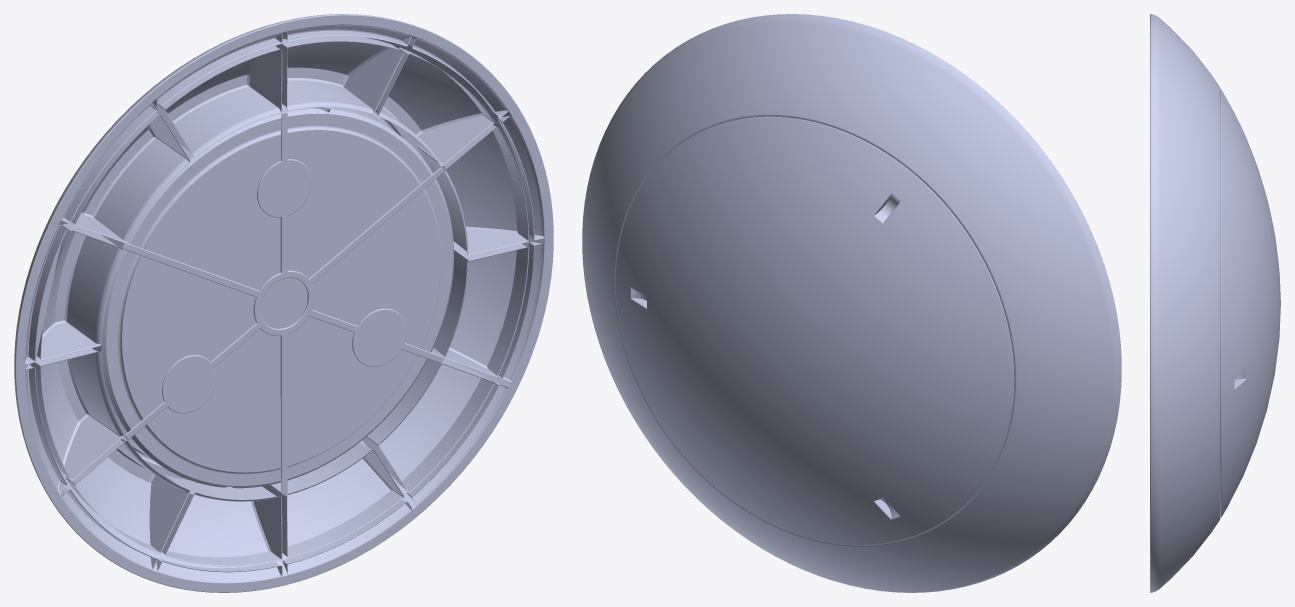
The model's file is sensor.gltf.
3 views of the same model, side by side, from view 1: azimuth 30°, elevation 25°; view 2: azimuth 150°, elevation 25°; view 3: azimuth 270°, elevation 25° (orthographic). The views are drawn at different scales.
Visible parts, largest first — view 1: 2026-07-08_Base_0G, 2025-08-09_Perry_0.1.G; view 2: 2026-07-08_Lid_0G, 2026-07-08_Base_0G; view 3: 2026-07-08_Base_0G, 2026-07-08_Lid_0G.
Boxes of the visible parts, x1,y1,x2,y2 form: 2026-07-08_Base_0G: (14,14,553,592); 2025-08-09_Perry_0.1.G: (129,138,433,464); 2026-07-08_Lid_0G: (615,116,1014,544); 2026-07-08_Base_0G: (582,14,1121,592); 2026-07-08_Base_0G: (1150,14,1220,592); 2026-07-08_Lid_0G: (1220,89,1280,517).
Bounding box in the file's own units: 0.1688 × 0.1689 × 0.0382.
